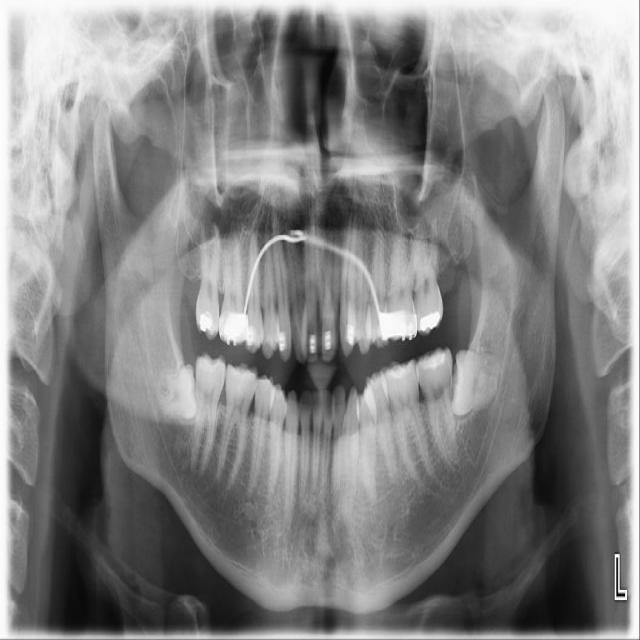52: (411, 343, 460, 399), (413, 283, 443, 336), (195, 282, 219, 340)
73: (588, 576, 591, 594)
BioHorizons Implant: (413, 217, 443, 335)
Biomet 3i Implant: (448, 349, 502, 419)
Blue Sky Bio Implant: (415, 345, 460, 472)
Caries: (194, 220, 222, 340)
Implant: (189, 350, 227, 476)
Keystone Dental Implant: (154, 362, 199, 422)
